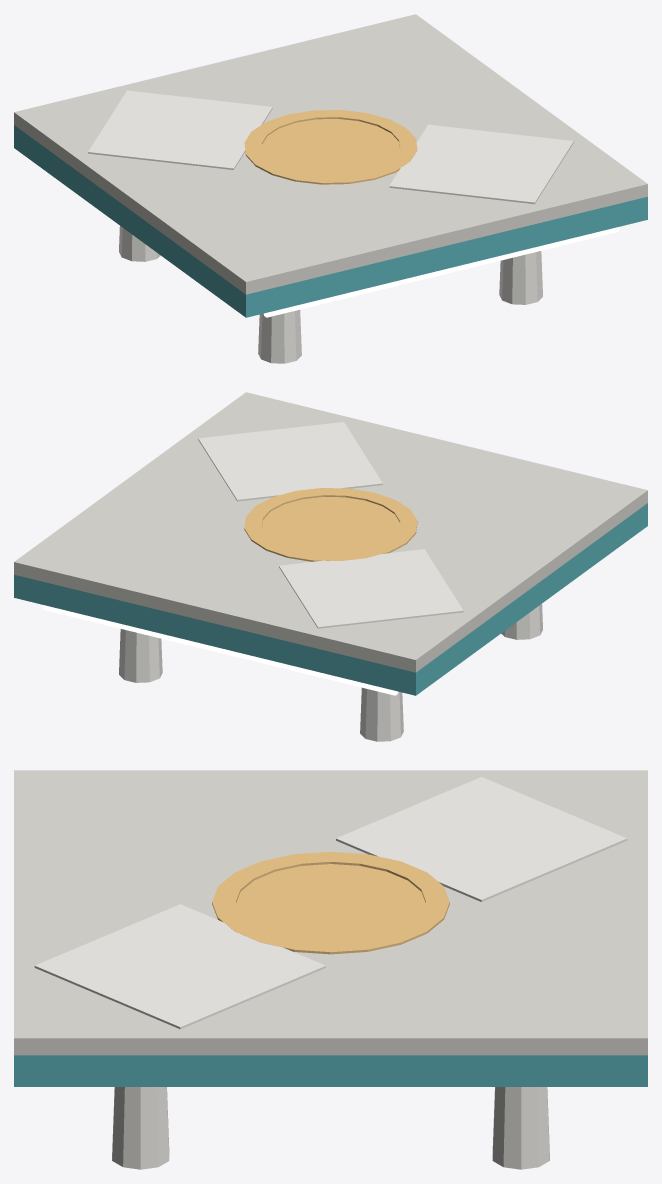
Rendered from arcology-towers-and-skyways-plaza-deck-tile-0b6c5dfd__23263.glb.
3 renders of one model, top to bottom at view 1: azimuth 30°, elevation 25°; view 2: azimuth 150°, elevation 25°; view 3: azimuth 270°, elevation 25°, orthographic. The views are drawn at different scales.
Visible parts, largest first — view 1: plaza-deck-tile; view 2: plaza-deck-tile; view 3: plaza-deck-tile.
Boxes of the visible parts, x1=… form: plaza-deck-tile: x1=14, y1=14, x2=647, y2=363; plaza-deck-tile: x1=14, y1=392, x2=647, y2=741; plaza-deck-tile: x1=14, y1=770, x2=647, y2=1169.
Bounding box in the file's own units: 8 × 2.43 × 8.
